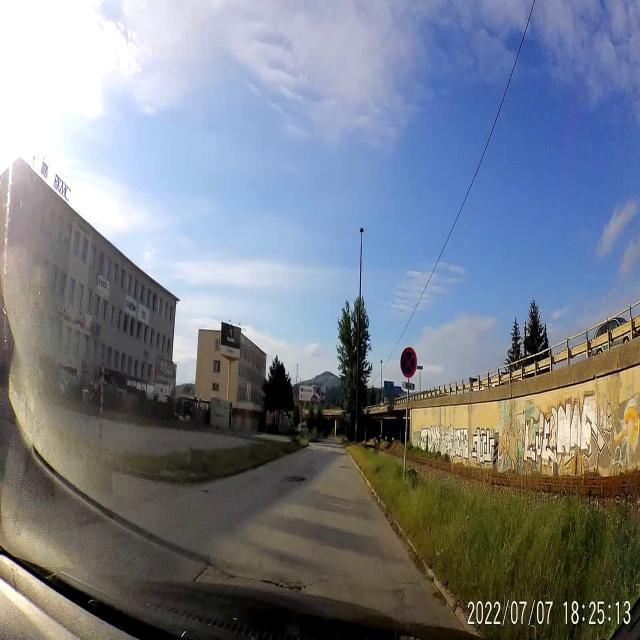Pothole: (260, 568, 310, 596), (278, 467, 310, 492), (198, 485, 212, 497), (339, 463, 352, 472)
